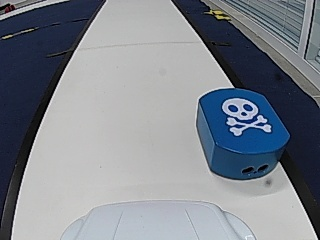danger: (223, 99, 268, 135)
